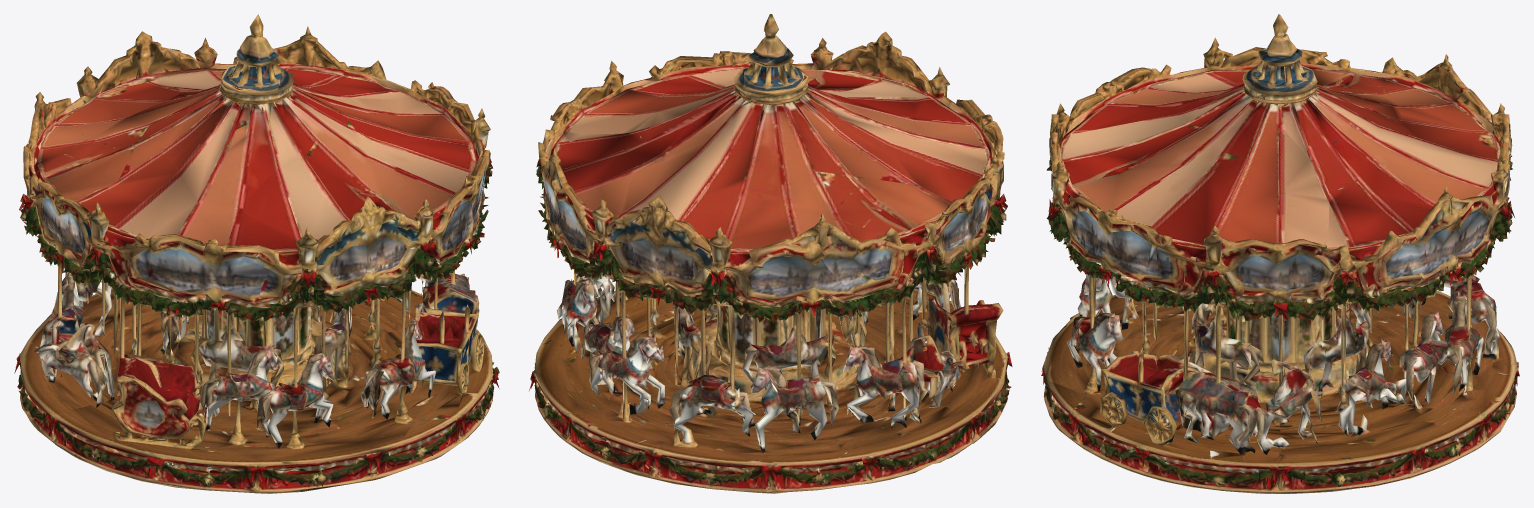
File: carousel.glb
3 views of the same model, side by side, from view 1: azimuth 30°, elevation 25°; view 2: azimuth 150°, elevation 25°; view 3: azimuth 270°, elevation 25° (orthographic).
Size of the model in its own units: 1.9 by 1.67 by 1.9.
Materials: 1 (1 with a texture image).
